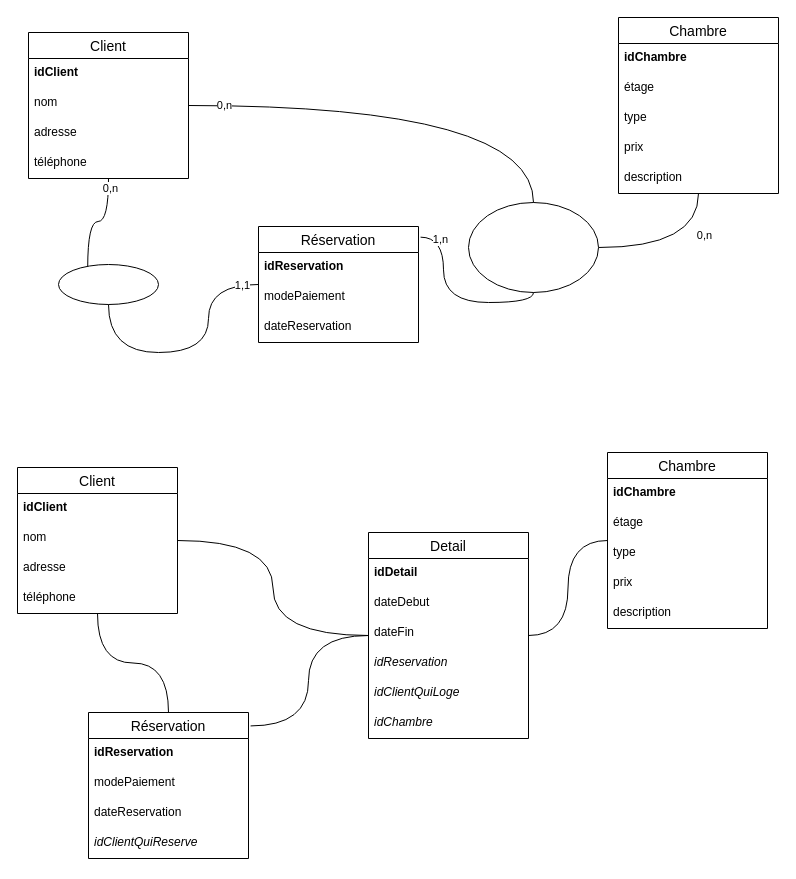
Some shapes in this 796 by 879 pixel diagram are drawn without their labels. The shapes that lost their labels are listed below. From the top down, each one's centre as x and y in pixels, then its label:
At point (533, 247): "comprend dateDebut dateFin".
At point (108, 284): "fait".
